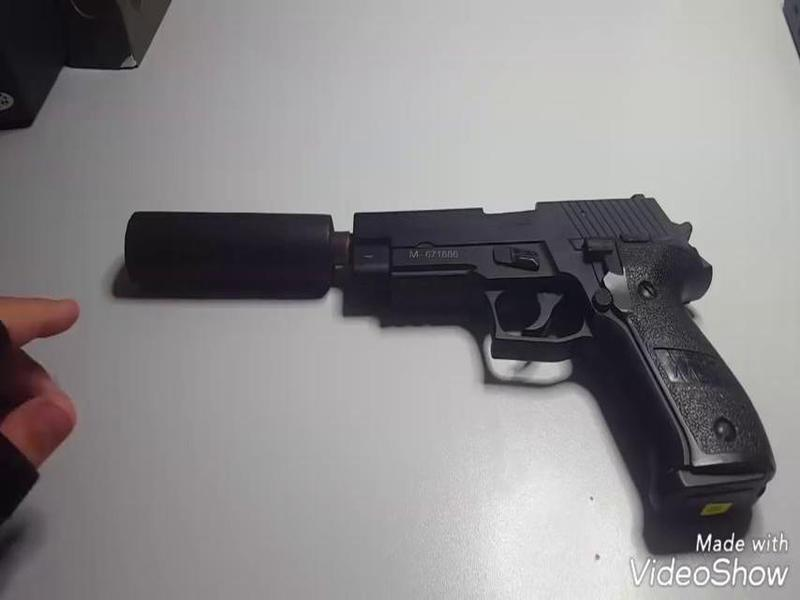Pistola: (111, 164, 772, 510)
